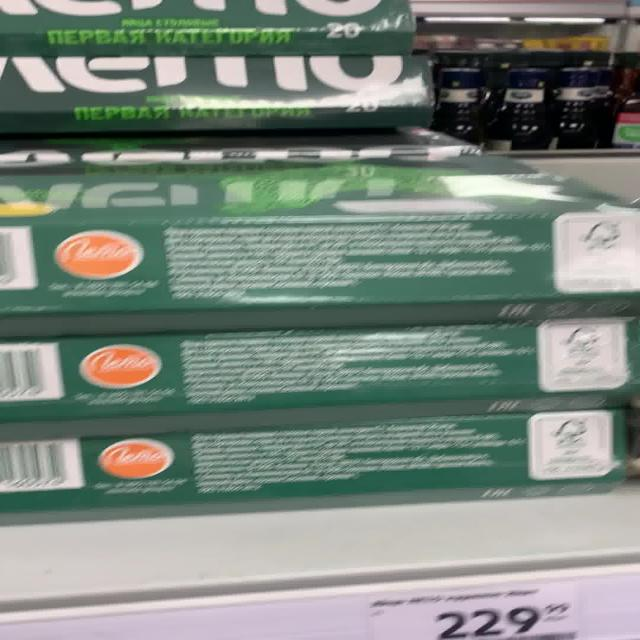egg box: (0, 56, 439, 131)
